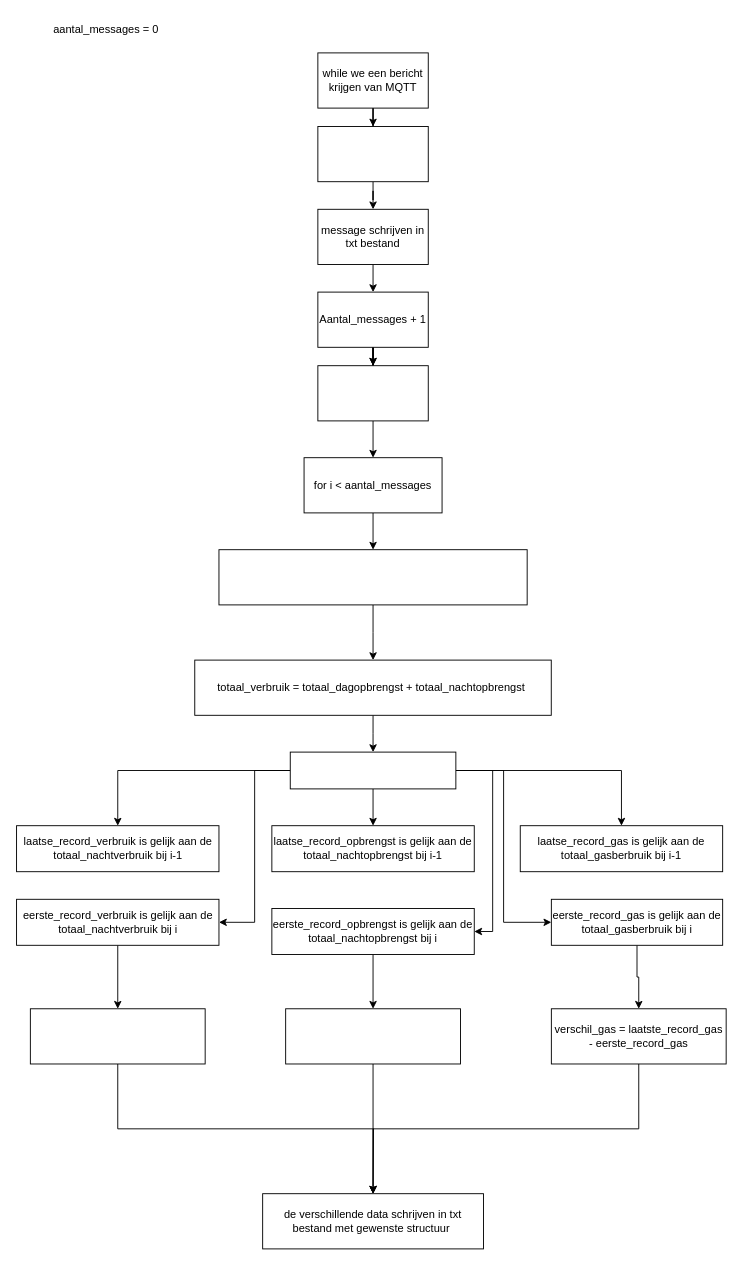
Some shapes in this 742 by 1265 pixel diagram are drawn without their labels. The box of each missing label's shape, as (x1, y1, x2, y2) in pixels:
als "00-00-00" == tijd_stroom: (289, 751, 456, 789)
in veldjes verdelen met sscanf (datum en tijd appart zetten): (317, 365, 428, 421)
Print message: (317, 126, 428, 182)
totaal_verbruik = totaal_dagverbruik + totaal_nachtverbruik: (218, 549, 527, 605)
verschil_opbrengst = laatste_record_opbrengst - eerste_record_opbrengst: (285, 1008, 460, 1064)
verschil_verbruik = laatste_record_verbruik - eerste_record_verbruik: (29, 1008, 205, 1064)
